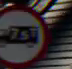Heavy Vehicles: (0, 4, 51, 65)
